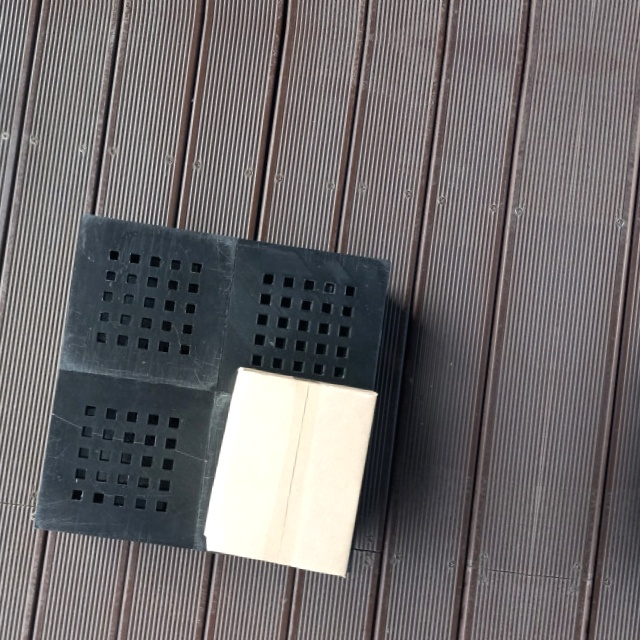box: (208, 368, 380, 587)
pallet: (22, 208, 399, 582)
